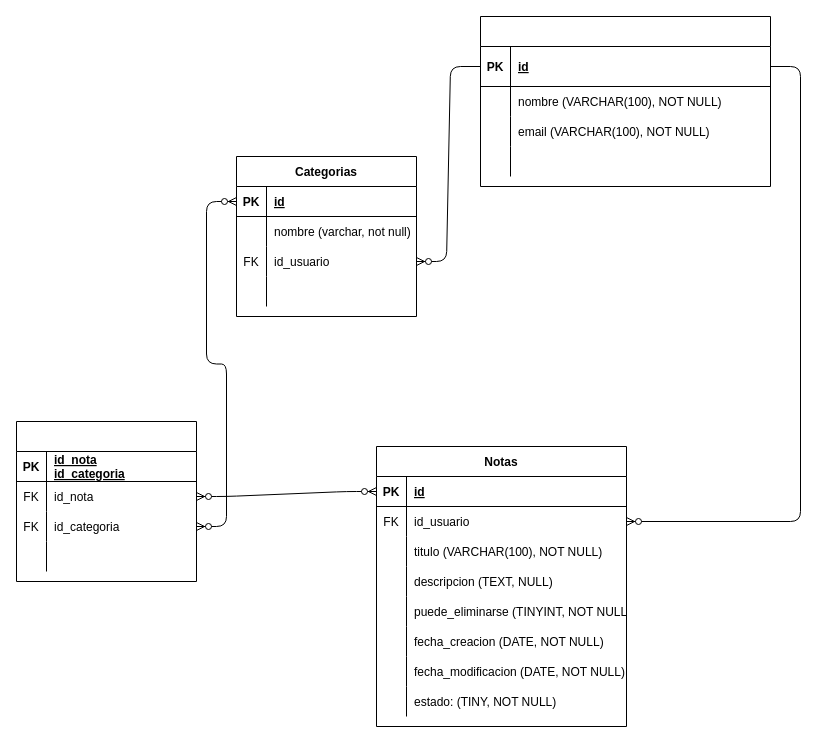
Image size: 817x743. Some labels were removed from this diagram. Each missing label, with the box of its shape:
Nota_Categoria: (16, 420, 196, 582)
Usuarios: (480, 16, 770, 186)
